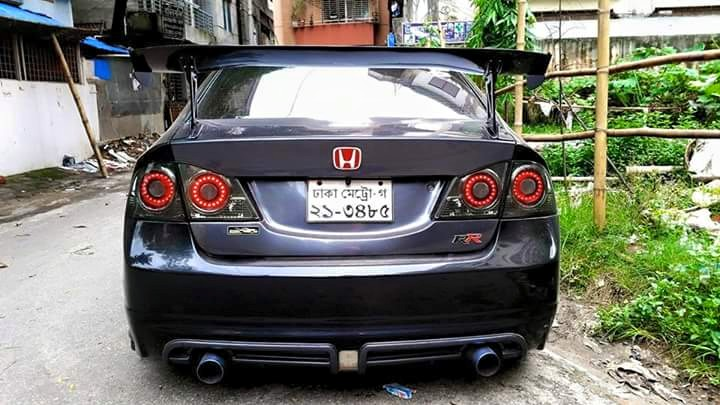registration_plate: (306, 178, 394, 223)
